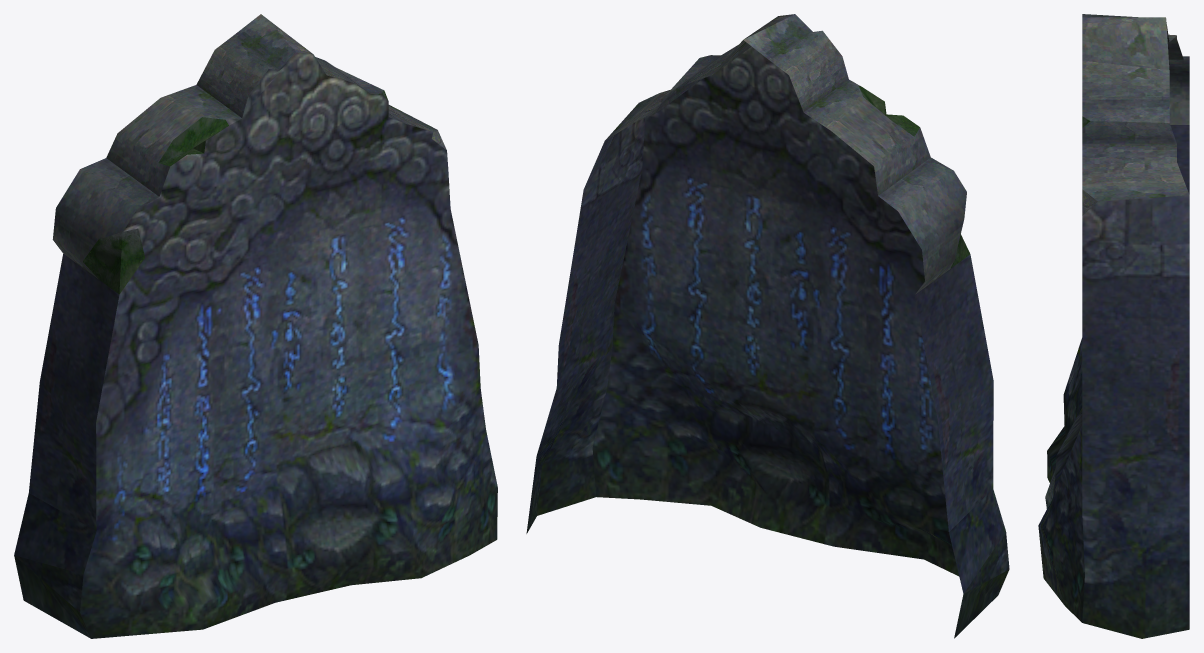
The model's file is fb_zhenlongqiju_shibi01.FBX.
3 renders of one model, left to right at view 1: azimuth 30°, elevation 25°; view 2: azimuth 150°, elevation 25°; view 3: azimuth 270°, elevation 25°, orthographic. The views are drawn at different scales.
Visible parts, largest first — view 1: fb_zhenlongqiju_shibi01; view 2: fb_zhenlongqiju_shibi01; view 3: fb_zhenlongqiju_shibi01.
Part boxes in pixels (box(x1,y1,x2,y2)): fb_zhenlongqiju_shibi01: box(14, 14, 497, 638); fb_zhenlongqiju_shibi01: box(526, 14, 1009, 638); fb_zhenlongqiju_shibi01: box(1038, 14, 1189, 638).
Bounding box in the file's own units: 564 × 644 × 170.
